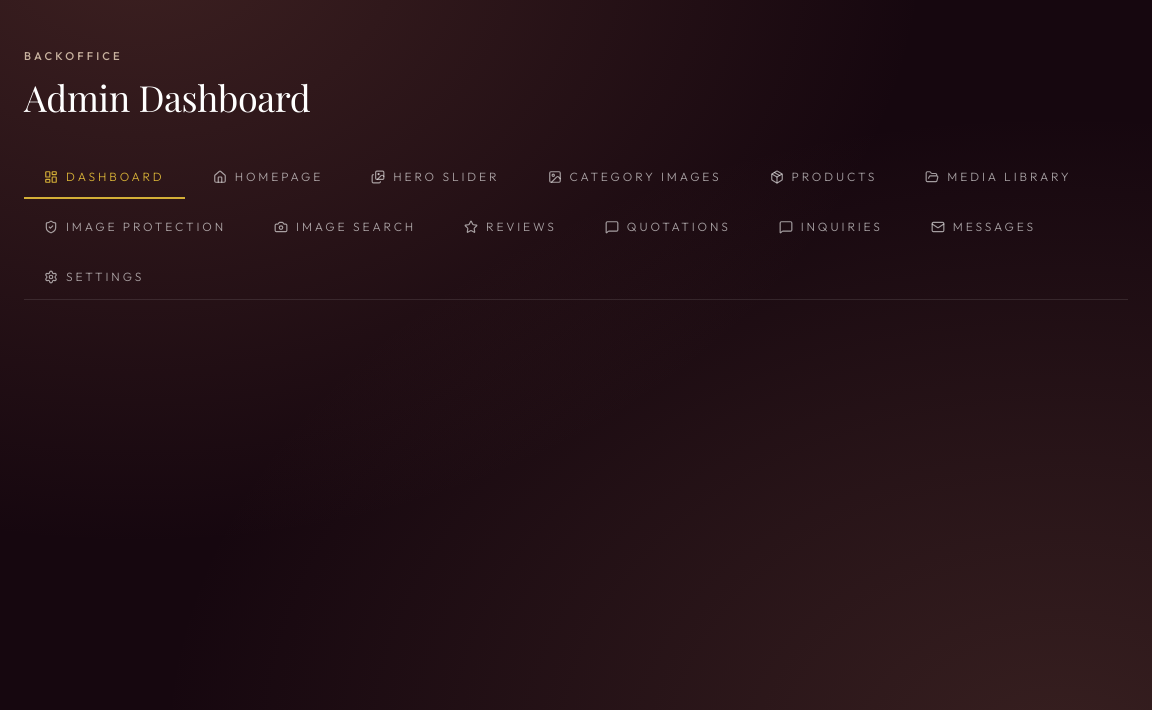
Test: Admin Enquiries — deletion controls › Select All Visible + Delete Selected calls bulk endpoint with filtered ids only
Later steps or results of the test are not shown.
Click the button with test id "admin-tab-inquiries": (831, 228) [759, 207, 903, 249]
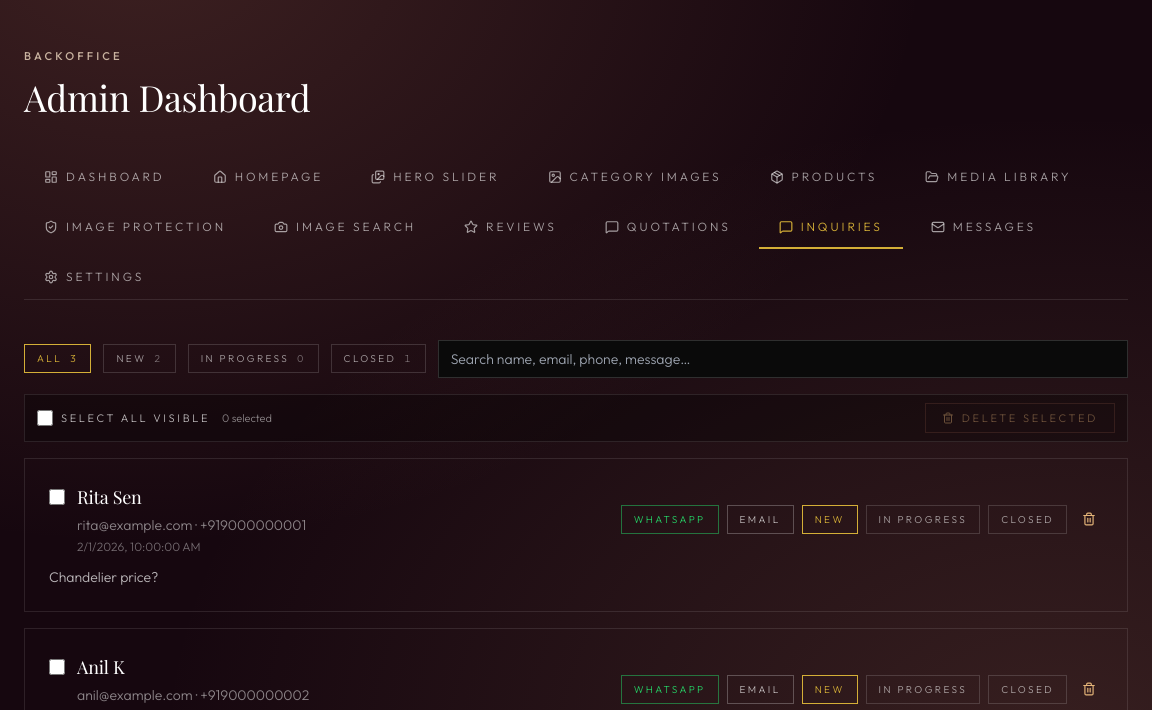
Now the element with test id "inq-inq-1" is shown, box [24, 458, 1128, 612]
Click the button with test id "inq-filter-new": (140, 359) [103, 344, 176, 373]
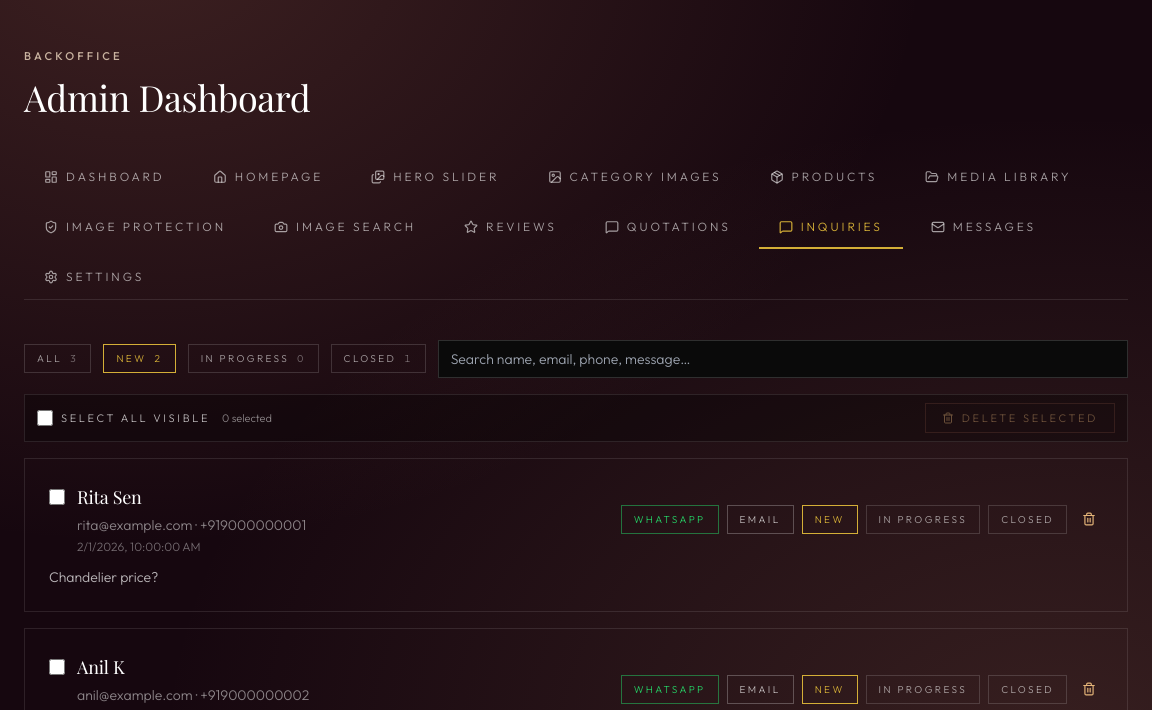
Click the checkbox with test id "inq-select-all": (45, 418) [37, 410, 53, 426]
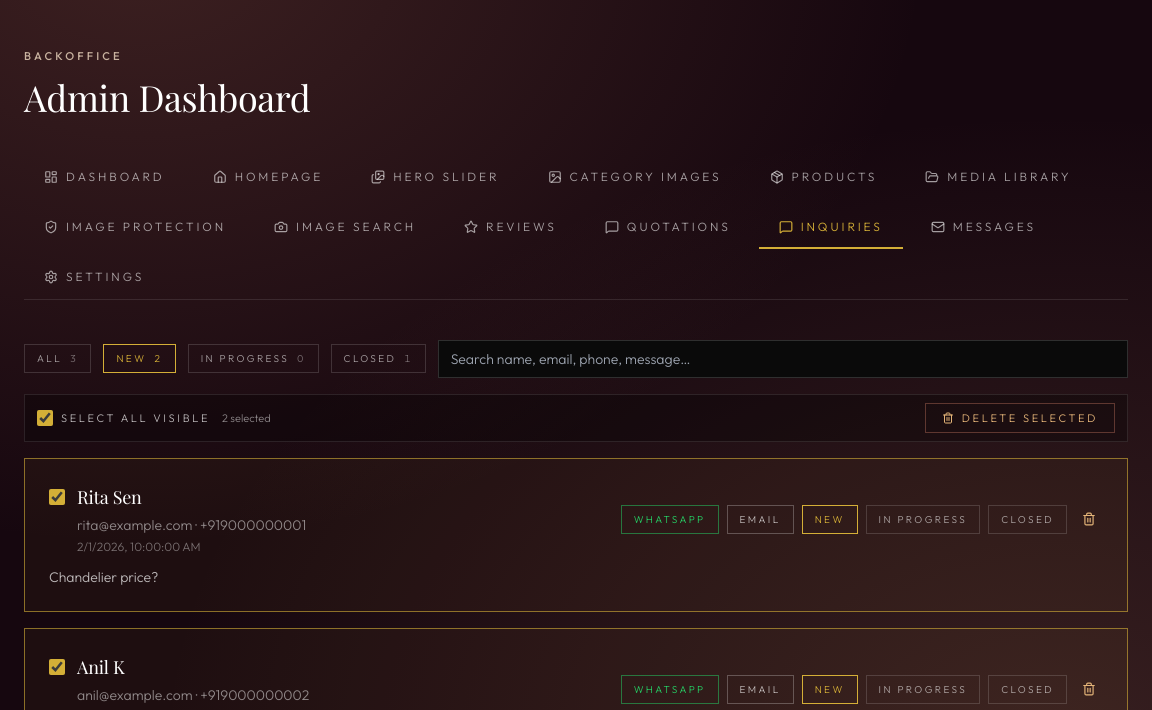
Now the text with test id "inq-selected-count" reads "2 selected", box [222, 410, 271, 426]
Click the button with test id "inq-bulk-delete": (1020, 418) [925, 403, 1115, 433]
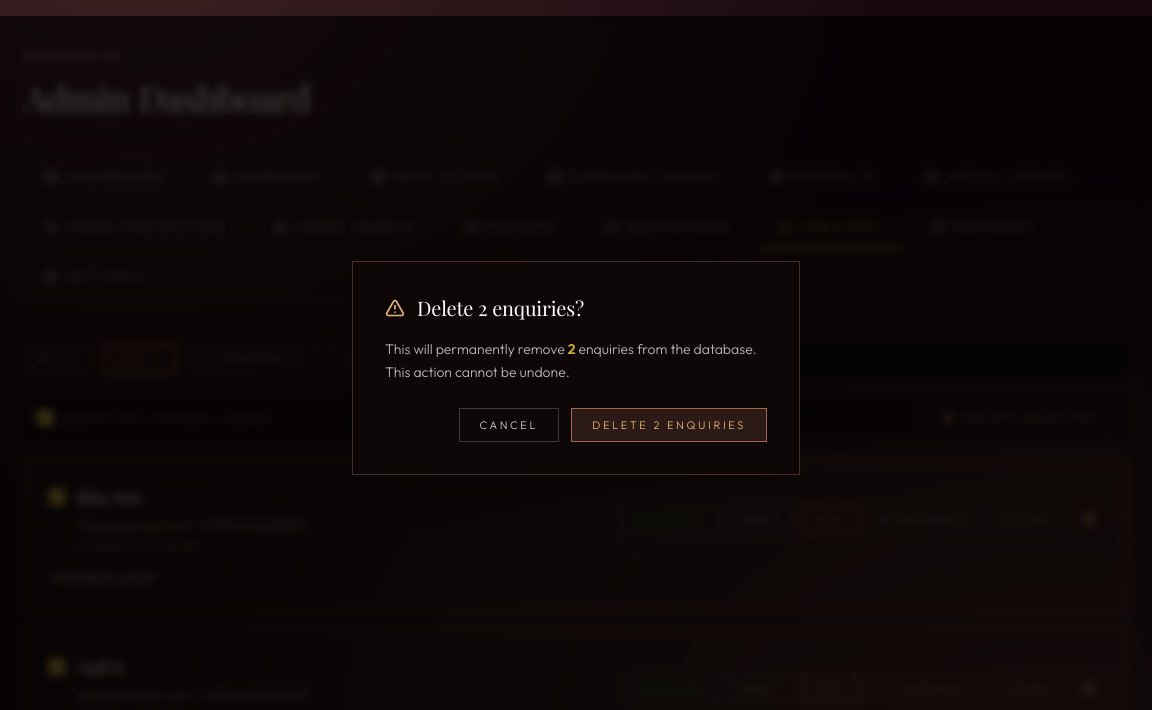
Now the text with test id "inq-delete-modal-count" reads "2", box [568, 340, 576, 358]
Now the dialog with test id "inq-delete-modal" shows "Delete 2 enquiries", box [571, 408, 767, 442]
